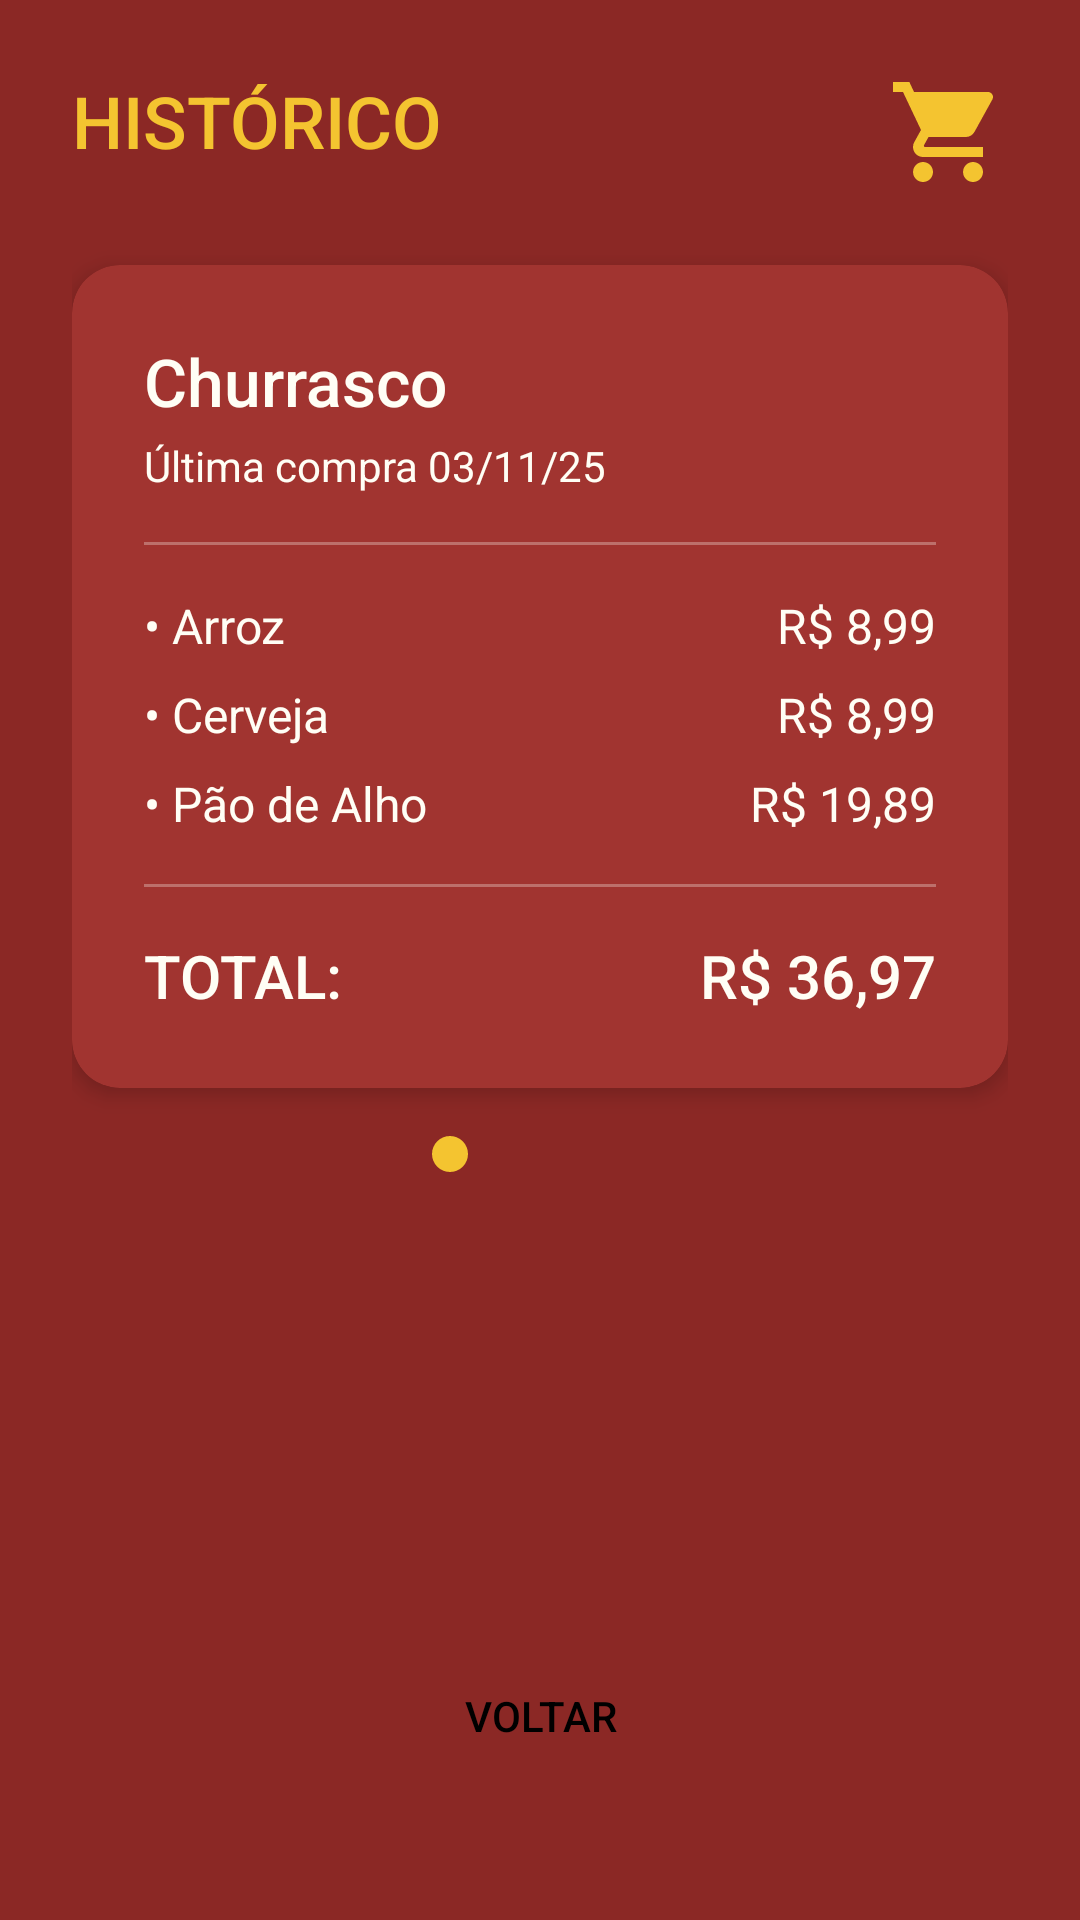

Icon click points for this 1080px x 1920px phone screenshot, format (x,y):
cart: (943,132)
